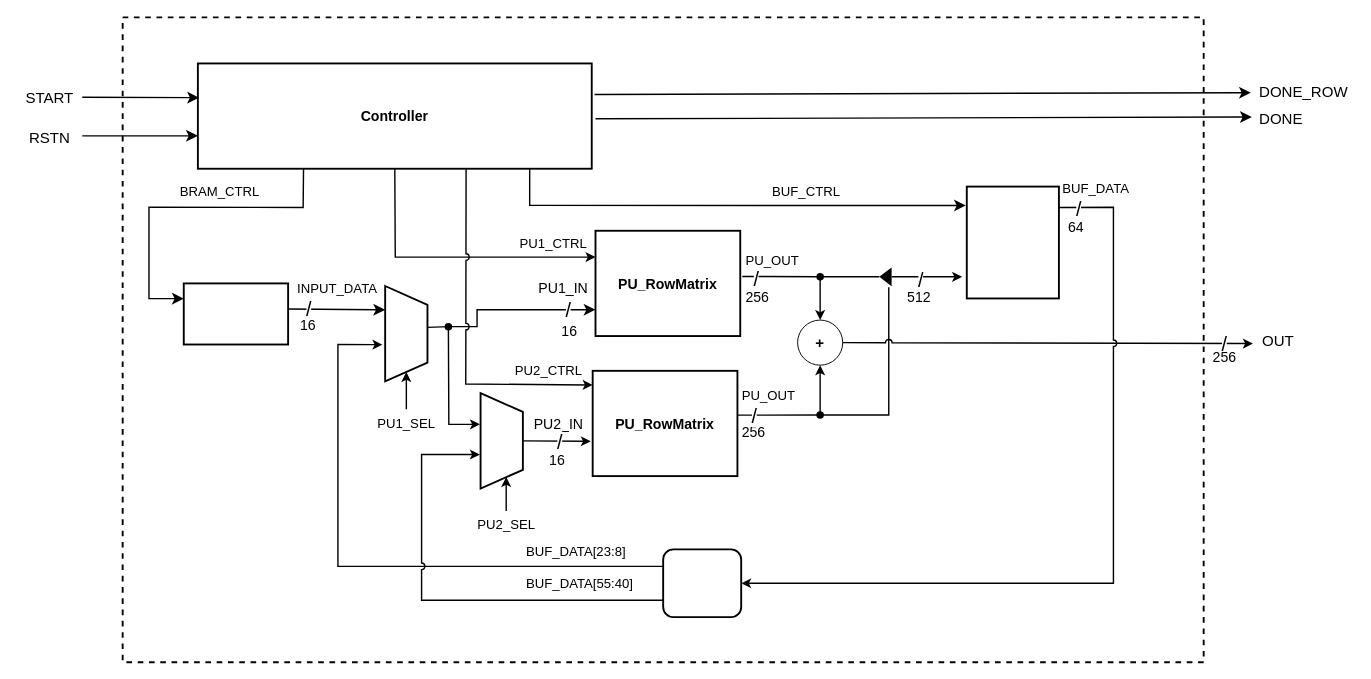
This 1371x679 diagram has some shape labels left out. The centre of each missing label's shape, as x and y in pixels:
"Bit_Split" belongs at (x=702, y=583).
"BRAM_Input" belongs at (x=235, y=313).
"Temp_Buffer" belongs at (x=1012, y=242).
